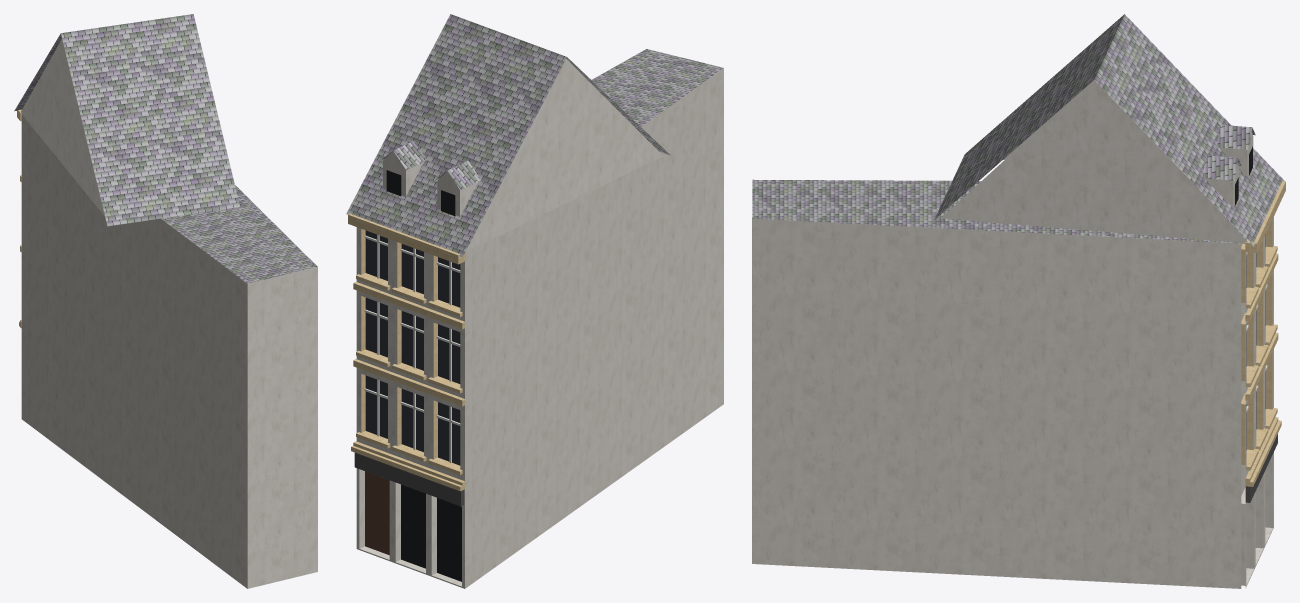
3 views of the same model, side by side, from view 1: azimuth 30°, elevation 25°; view 2: azimuth 150°, elevation 25°; view 3: azimuth 270°, elevation 25° (orthographic). The views are drawn at different scales.
Parts seen in each view (by area): view 1: bldg_496944518_landmark; view 2: bldg_496944518_landmark; view 3: bldg_496944518_landmark.
Boxes of the visible parts, bbox=[...] form: bldg_496944518_landmark: bbox=[14, 14, 317, 588]; bldg_496944518_landmark: bbox=[346, 14, 723, 588]; bldg_496944518_landmark: bbox=[752, 14, 1285, 588].
Size of the model in its own units: 7.75 by 19.5 by 18.9.
8 materials, 3 textured.
